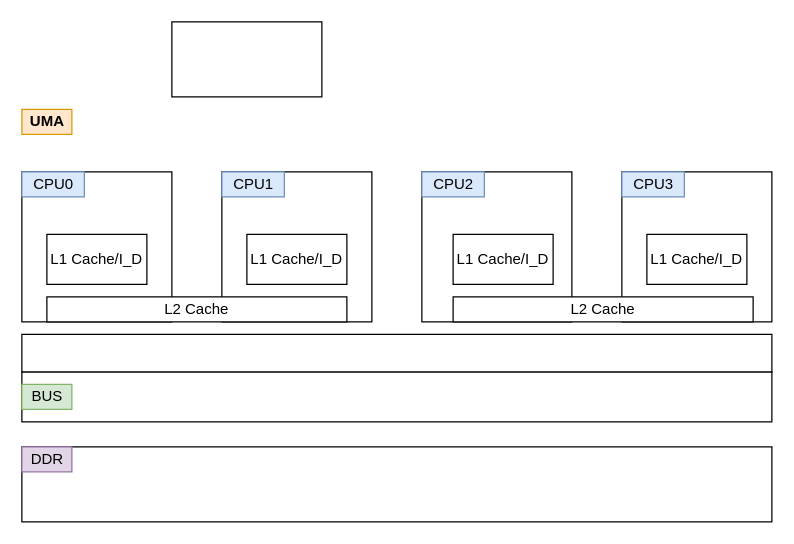
This 794x544 diagram has some shape labels left out. Each missing label, with the centre of its shape:
"L3 Cache" belongs at [396,352].
"struct rq" belongs at [246,59].
